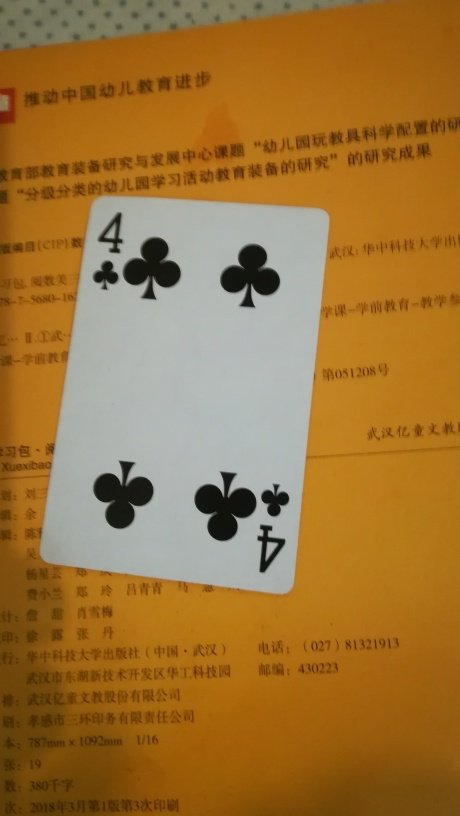mh 4: (36, 188, 332, 598)
